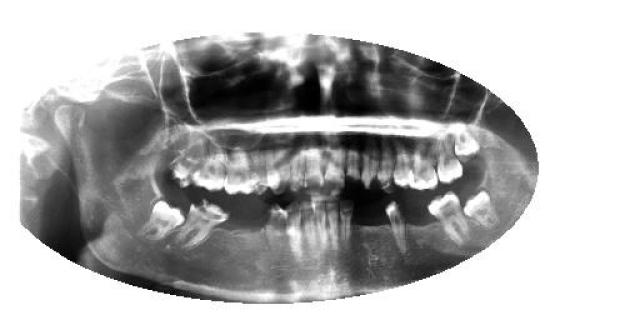Cavity: (172, 198, 232, 250), (264, 200, 286, 259), (386, 198, 406, 252), (376, 141, 394, 191), (344, 149, 361, 189), (362, 142, 376, 190)
Restorations: (138, 198, 182, 242), (462, 188, 500, 230), (452, 124, 482, 164)
